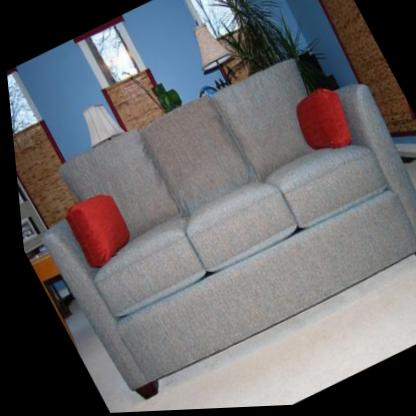Sofa: (3, 25, 416, 410)
